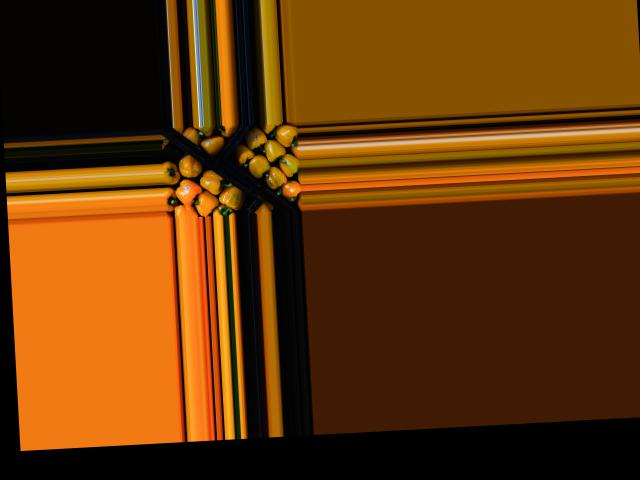bell_pepper: (269, 120, 297, 145)
